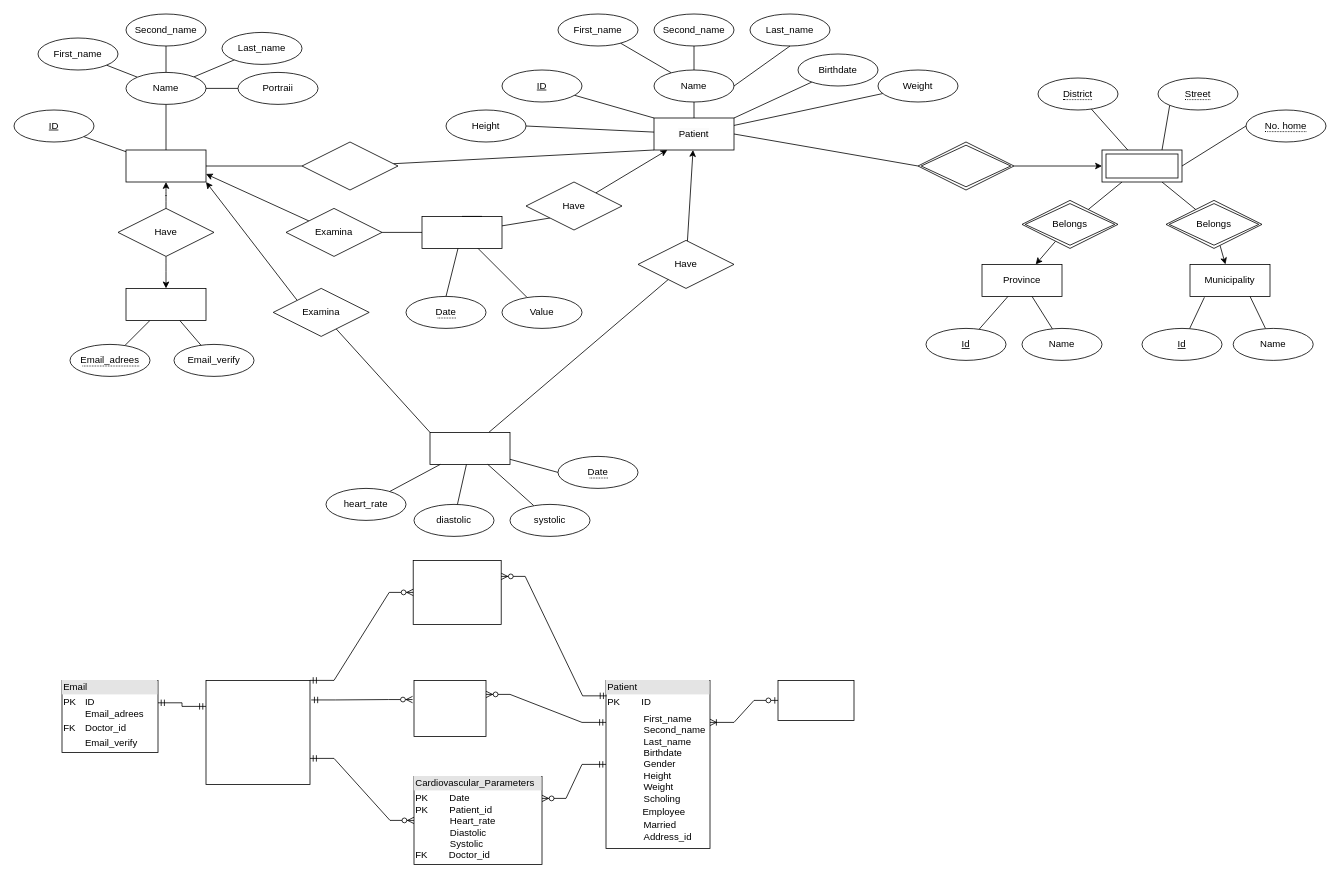
The diagram is 1340 pixels wide and 878 high, and some of its shapes have lost their labels. The shapes that lost their labels are listed below. From the top down, each one's centre as x and y in pixels, then its label:
At point (165, 165): "Doctor".
At point (349, 165): "Attend".
At point (965, 165): "LIve".
At point (1141, 165): "Adrees".
At point (461, 232): "Blood sugar levels".
At point (165, 304): "Email".
At point (469, 448): "Cardiovascular Parameters".
At point (456, 592): "Blood_sugar_levels PK Date PK Patient_id Value FK Doctor_id".
At point (449, 708): "Doctor_patient PK FK ID Doctor_id FK Patient_id".
At point (815, 700): "Adreess PK ID Adreess".
At point (257, 732): "Doctor PK ID First_name Second_name Last_name Portrait Specialty Password".
